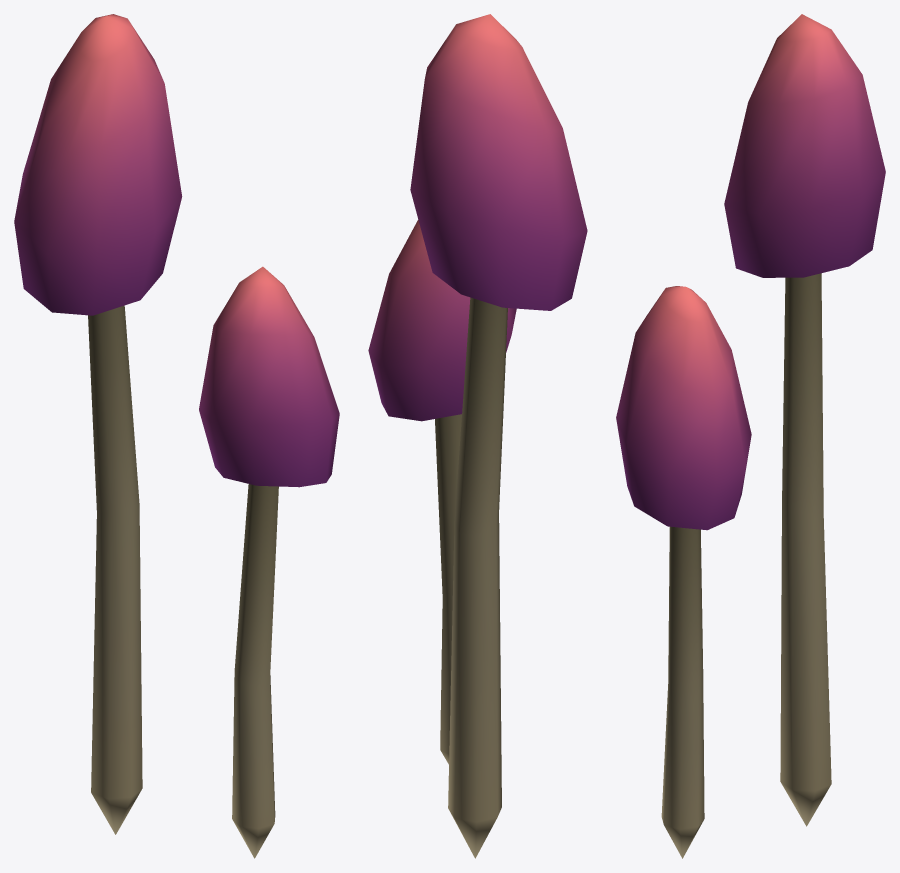
Rendered from Mushroom_1B.fbx.
3 views of the same model, side by side, from view 1: azimuth 30°, elevation 25°; view 2: azimuth 150°, elevation 25°; view 3: azimuth 270°, elevation 25° (orthographic). The views are drawn at different scales.
Parts seen in each view (by area): view 1: Mushroom_1B; view 2: Mushroom_1B; view 3: Mushroom_1B.
Part boxes in pixels (x1,y1,x2,y2): Mushroom_1B: (14,14,339,858); Mushroom_1B: (368,14,587,858); Mushroom_1B: (616,14,885,858).
Bounding box in the file's own units: 23.23 × 73.72 × 22.34.
